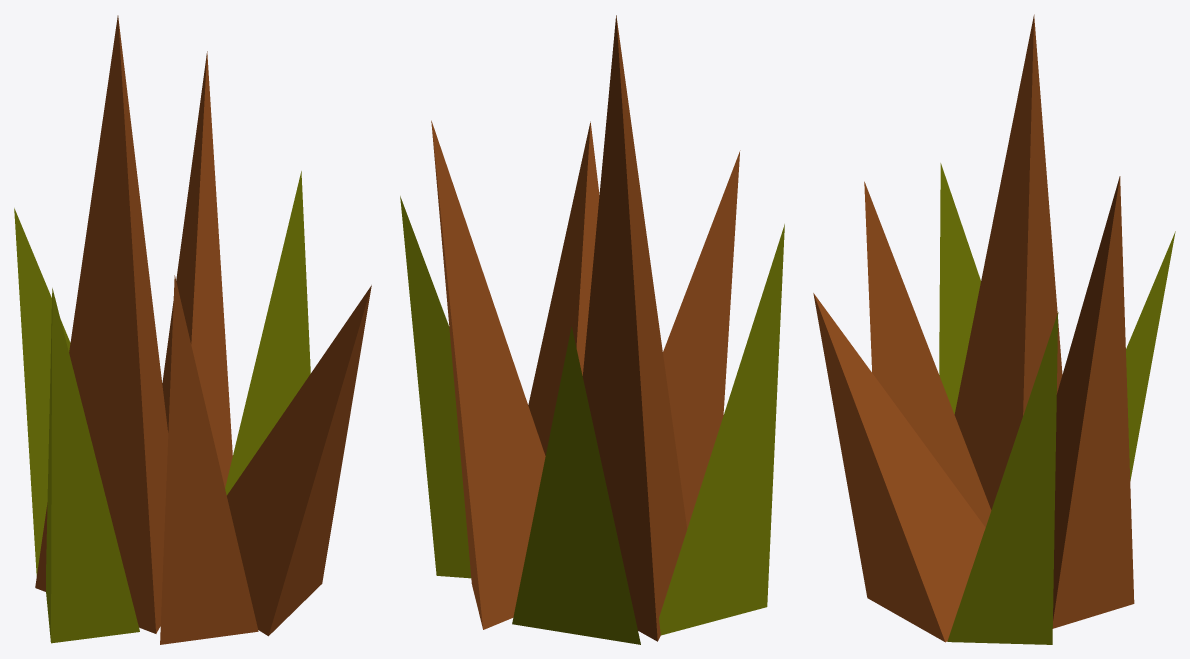
File: grass-3.glb
The picture shows the model from 3 angles, left to right: view 1: azimuth 30°, elevation 25°; view 2: azimuth 150°, elevation 25°; view 3: azimuth 270°, elevation 25°; orthographic projection. The views are drawn at different scales.
Parts seen in each view (by area): view 1: Grass 3; view 2: Grass 3; view 3: Grass 3.
Boxes of the visible parts, x1,y1,x2,y2 form: Grass 3: (14,15,371,644); Grass 3: (400,15,784,644); Grass 3: (813,14,1175,644).
Size of the model in its own units: 1.2 by 2.12 by 1.26.
